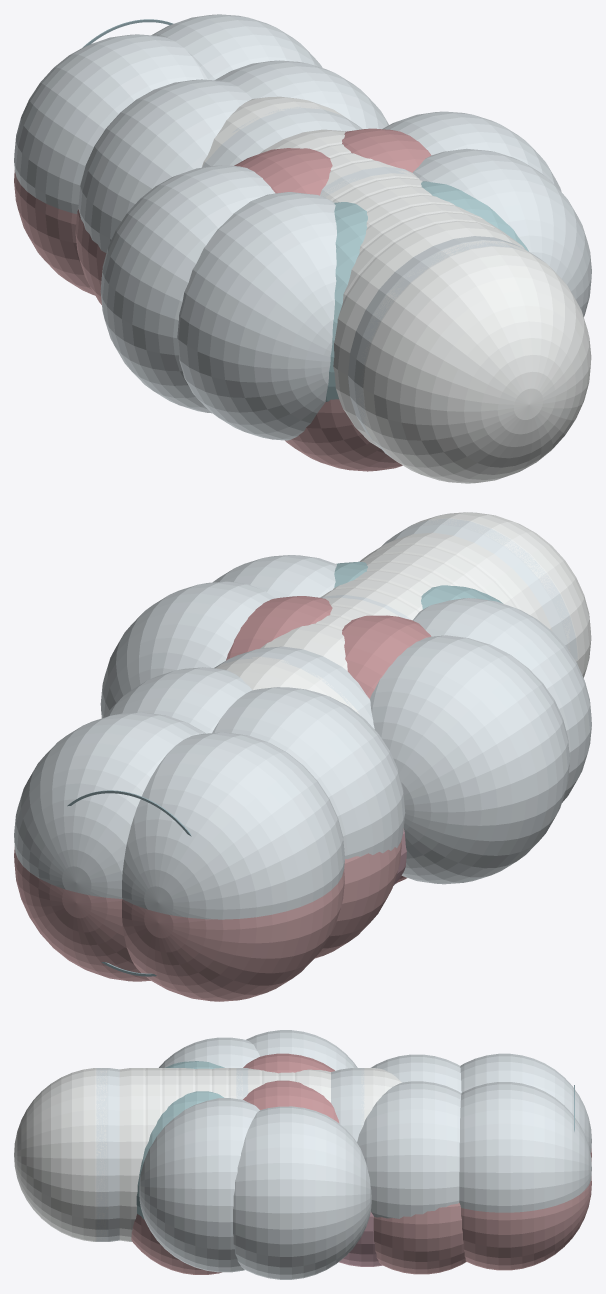
Rendered from driplabs-anatomy.glb.
3 renders of one model, top to bottom at view 1: azimuth 30°, elevation 25°; view 2: azimuth 150°, elevation 25°; view 3: azimuth 270°, elevation 25°, orthographic. The views are drawn at different scales.
Visible parts, largest first — view 1: Skeleton_Skull, Skin_Left_UpperArm, Skin_Left_Forearm, Skin_Left_Shin, Skin_Left_Thigh, Skin_Right_UpperArm, Skin_Right_Shin, Skeleton_Vertebra_1, Skin_Right_Thigh, Skin_Right_Forearm, Skin_Head, Muscle_Chest_L (+16 smaller); view 2: Skin_Left_Forearm, Skin_Left_Shin, Skin_Right_Shin, Muscle_Calf_L, Skin_Left_Thigh, Skin_Right_Forearm, Skin_Left_UpperArm, Muscle_Calf_R, Skin_Right_Thigh, Skeleton_Skull, Skin_Head, Muscle_Thigh_L (+16 smaller); view 3: Skin_Right_Forearm, Skin_Right_Shin, Skin_Right_UpperArm, Skeleton_Skull, Skin_Right_Thigh, Muscle_Calf_R, Muscle_Thigh_R, Skin_Head, Skeleton_Vertebra_1, Skin_Left_Shin, Skin_Left_Forearm, Skin_Left_UpperArm (+17 smaller).
Boxes of the visible parts, x1,y1,x2,y2 form: Skeleton_Skull: (356, 240, 591, 483); Skin_Left_UpperArm: (177, 192, 336, 440); Skin_Left_Forearm: (100, 165, 275, 413); Skin_Left_Shin: (14, 34, 207, 213); Skin_Left_Thigh: (78, 79, 251, 252); Skin_Right_UpperArm: (413, 148, 591, 316); Skin_Right_Shin: (151, 14, 322, 80); Skeleton_Vertebra_1: (333, 221, 525, 448); Skin_Right_Thigh: (215, 60, 388, 129); Skin_Right_Forearm: (382, 111, 561, 191); Skin_Head: (348, 236, 545, 458); Muscle_Chest_L: (285, 399, 402, 471); Skin_Left_Forearm: (370, 635, 569, 884); Skin_Left_Shin: (122, 732, 344, 919); Skin_Right_Shin: (14, 712, 205, 898); Muscle_Calf_L: (122, 869, 344, 1001); Skin_Left_Thigh: (212, 687, 405, 859); Skin_Right_Forearm: (100, 581, 274, 718); Skin_Left_UpperArm: (412, 598, 591, 802); Muscle_Calf_R: (14, 847, 150, 981); Skin_Right_Thigh: (103, 667, 252, 733); Skeleton_Skull: (411, 512, 591, 677); Skin_Head: (381, 518, 577, 664); Muscle_Thigh_L: (314, 839, 401, 958); Skin_Right_Forearm: (233, 1106, 371, 1279); Skin_Right_Shin: (459, 1082, 591, 1212); Skin_Right_UpperArm: (139, 1098, 259, 1272); Skeleton_Skull: (14, 1068, 107, 1241); Skin_Right_Thigh: (357, 1081, 461, 1218); Muscle_Calf_R: (461, 1176, 591, 1270); Muscle_Thigh_R: (373, 1203, 466, 1274); Skin_Head: (96, 1068, 119, 1241); Skeleton_Vertebra_1: (119, 1068, 145, 1241); Skin_Left_Shin: (460, 1053, 591, 1153); Skin_Left_Forearm: (246, 1030, 357, 1070); Skin_Left_UpperArm: (159, 1037, 259, 1067).
Size of the model in its own units: 4.04 by 2.31 by 6.61.
